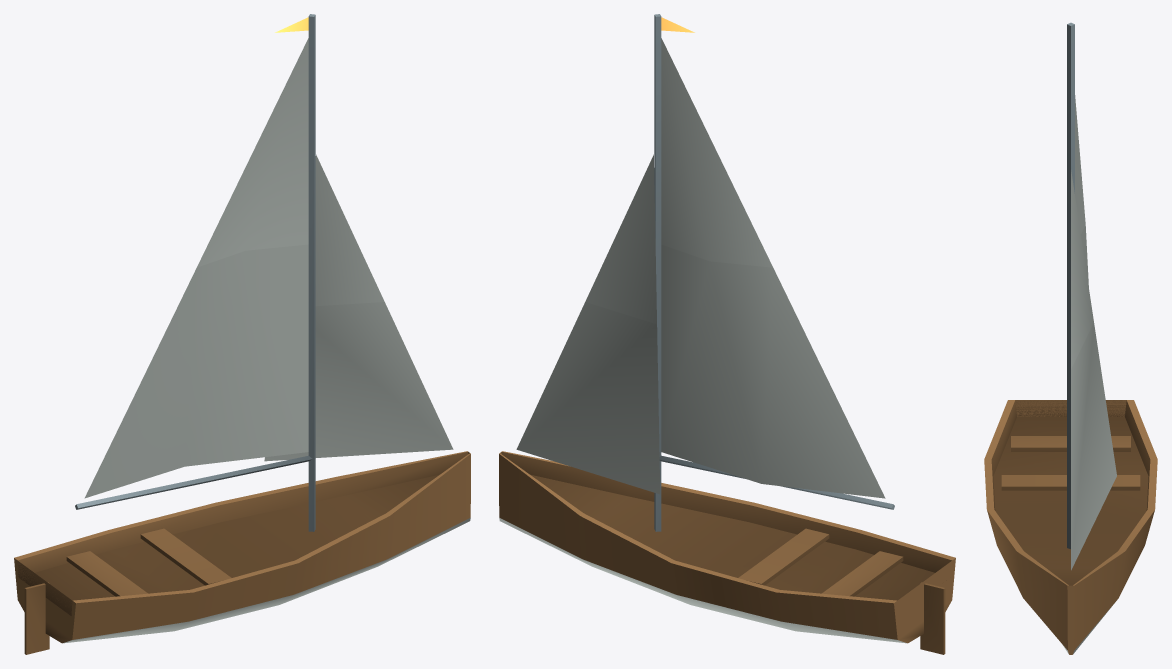
File: sail-skiff.lod2.glb
The picture shows the model from 3 angles, left to right: view 1: azimuth 30°, elevation 25°; view 2: azimuth 150°, elevation 25°; view 3: azimuth 270°, elevation 25°; orthographic projection.
Visible parts, largest first — view 1: structure, rig; view 2: structure, rig; view 3: structure, rig.
Boxes of the visible parts, x1,y1,x2,y2 form: structure: (14,14,470,654); rig: (75,38,312,509); structure: (499,14,955,654); rig: (659,38,894,509); structure: (984,22,1157,654); rig: (1075,95,1088,286).
Bounding box in the file's own units: 5.65 × 6.92 × 1.88.
